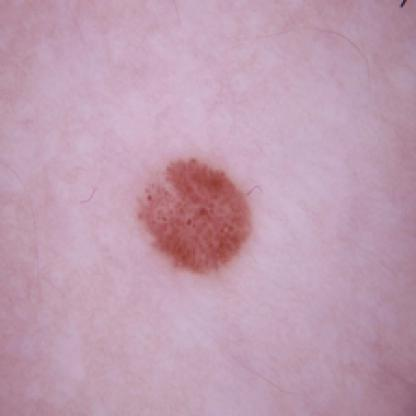benign: (130, 143, 262, 279)
